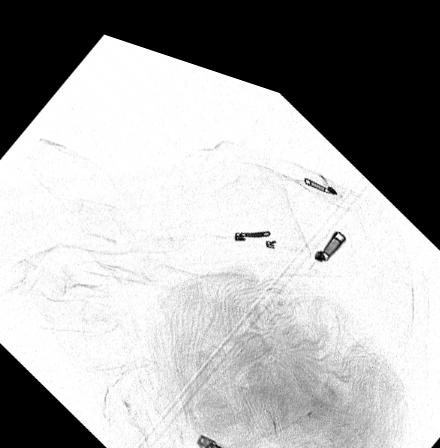Lighter: (194, 421, 272, 448)
